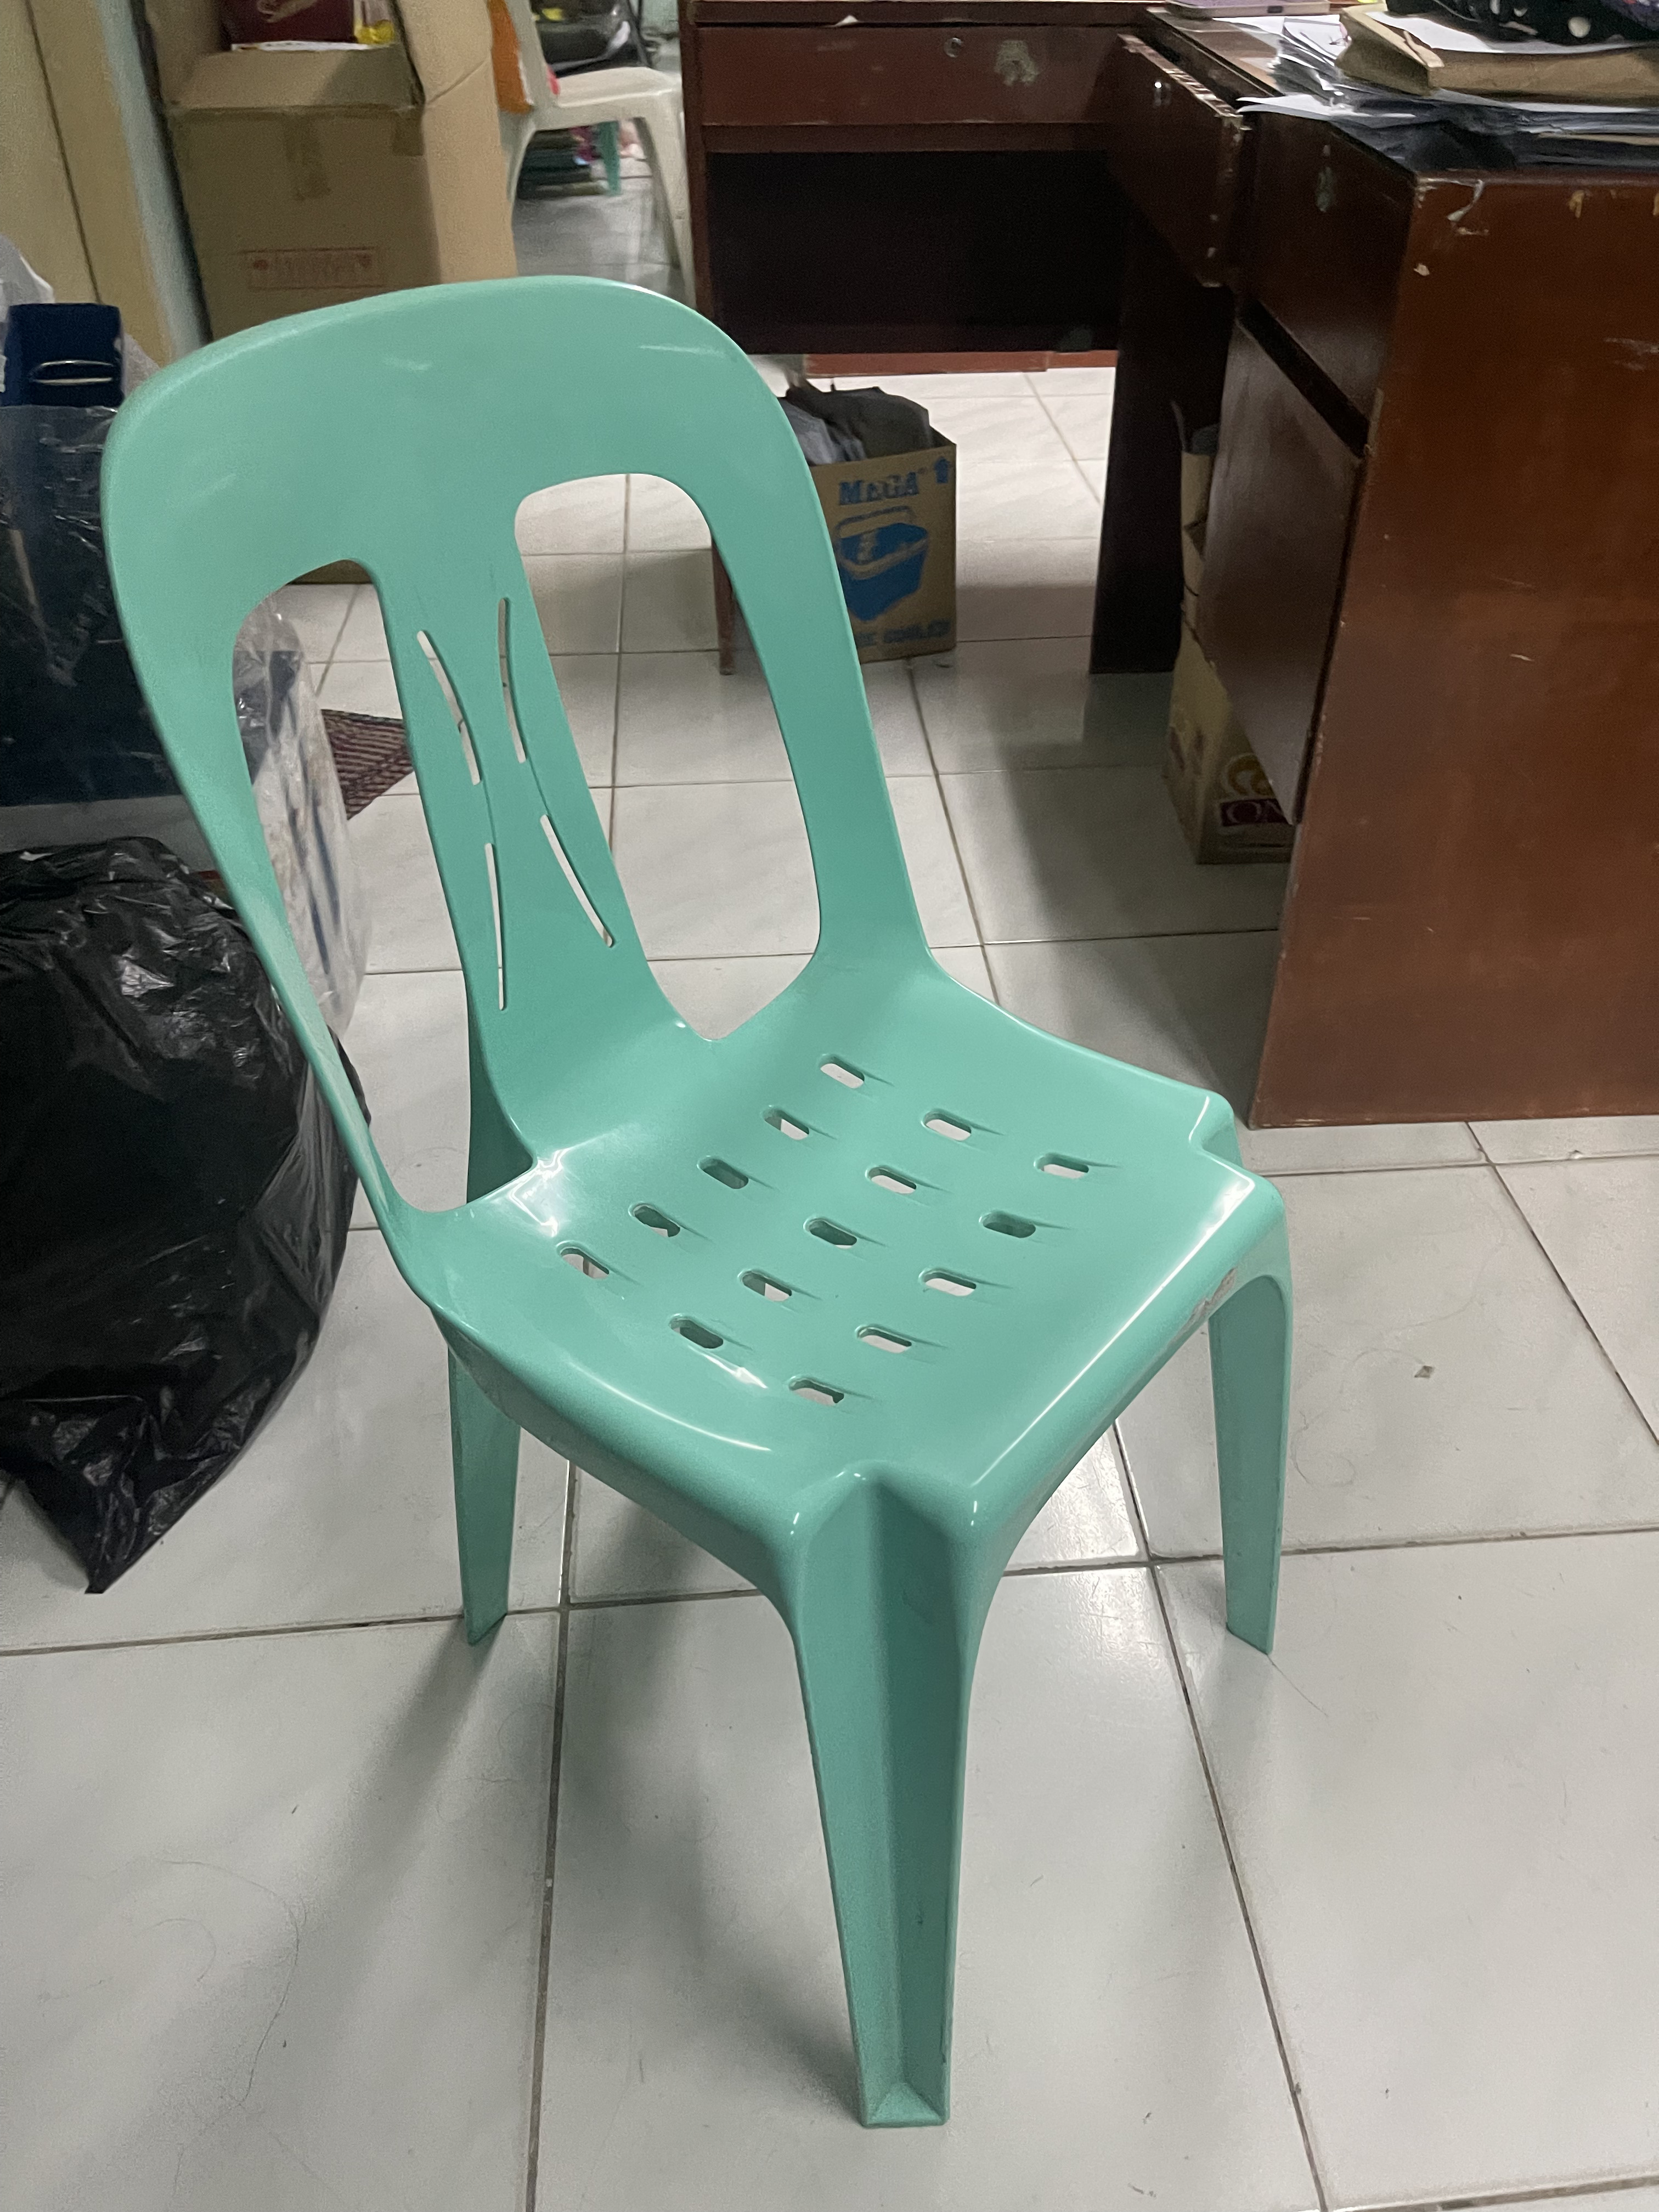chair2: (89, 273, 1291, 2177)
